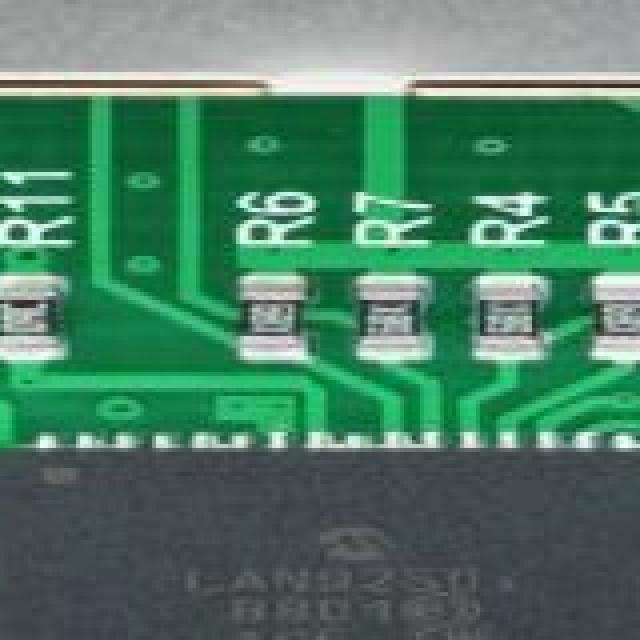IC: (0, 444, 640, 640)
connector: (0, 0, 640, 104)
resistor: (468, 288, 544, 350), (0, 288, 60, 352), (248, 284, 308, 348), (356, 292, 420, 348), (596, 292, 640, 336)
